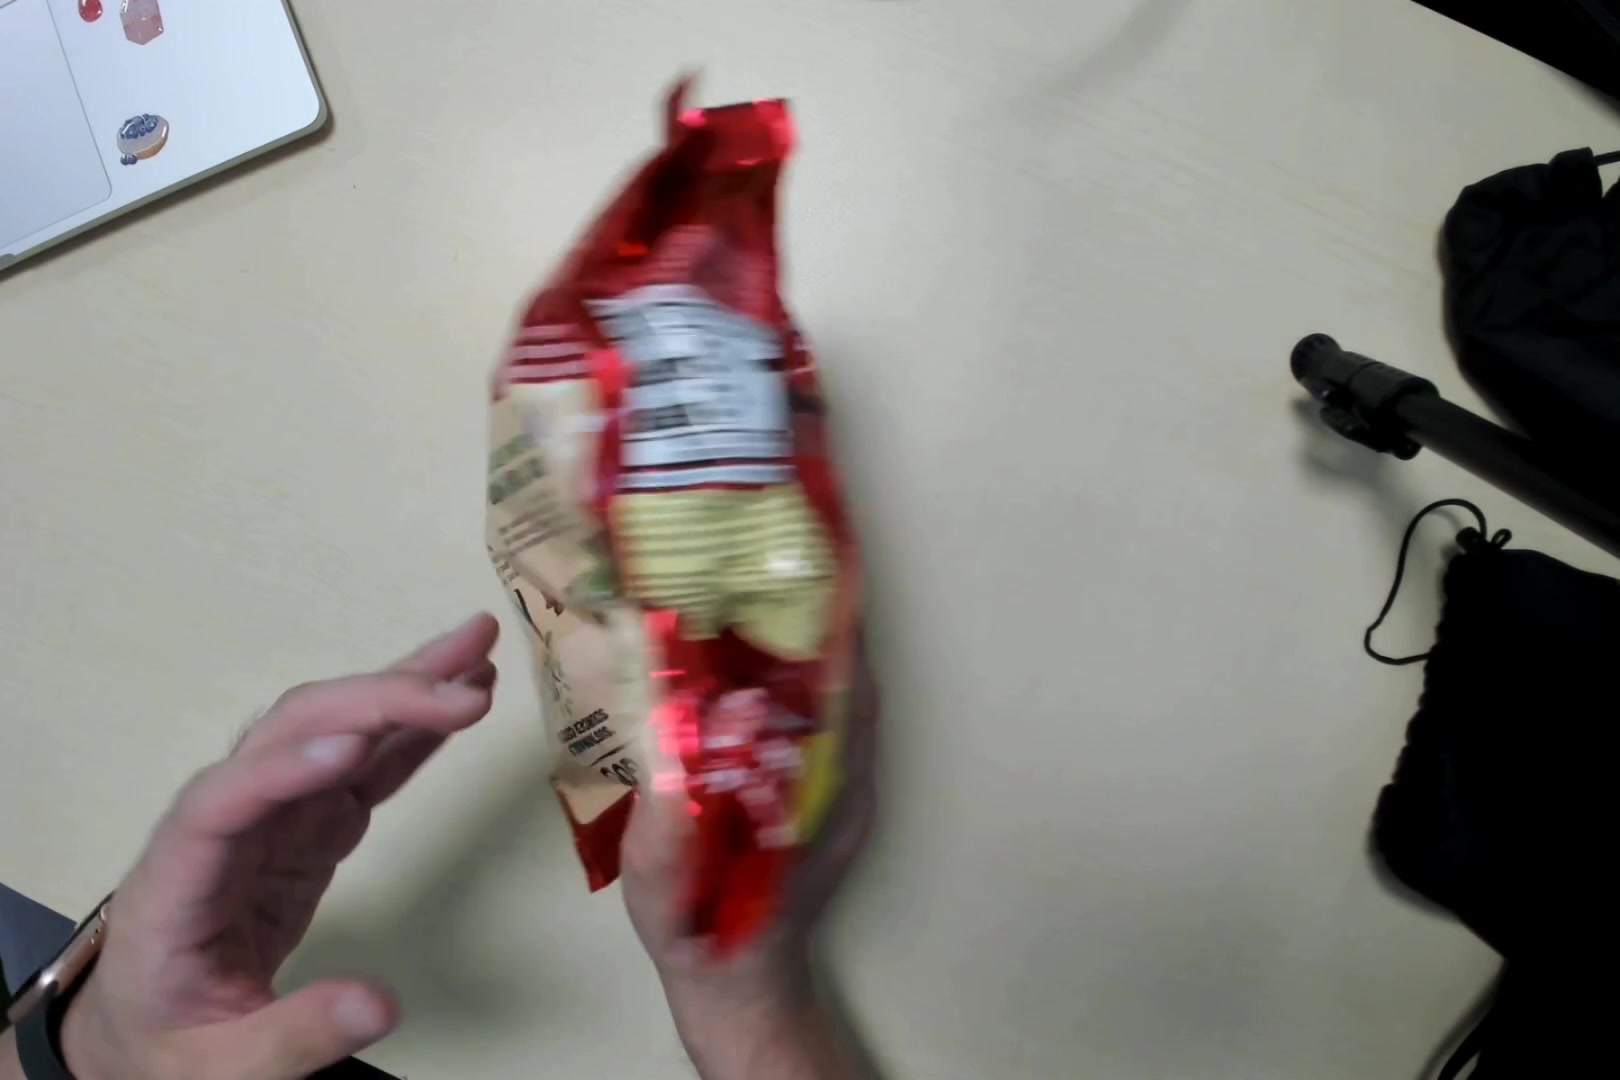SweetsChocolatesOthers_400-499g_Halal_NonHealthy: (483, 80, 888, 950)
